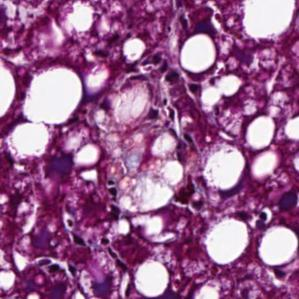inflammation: (36, 148, 100, 196), (147, 45, 182, 92)
